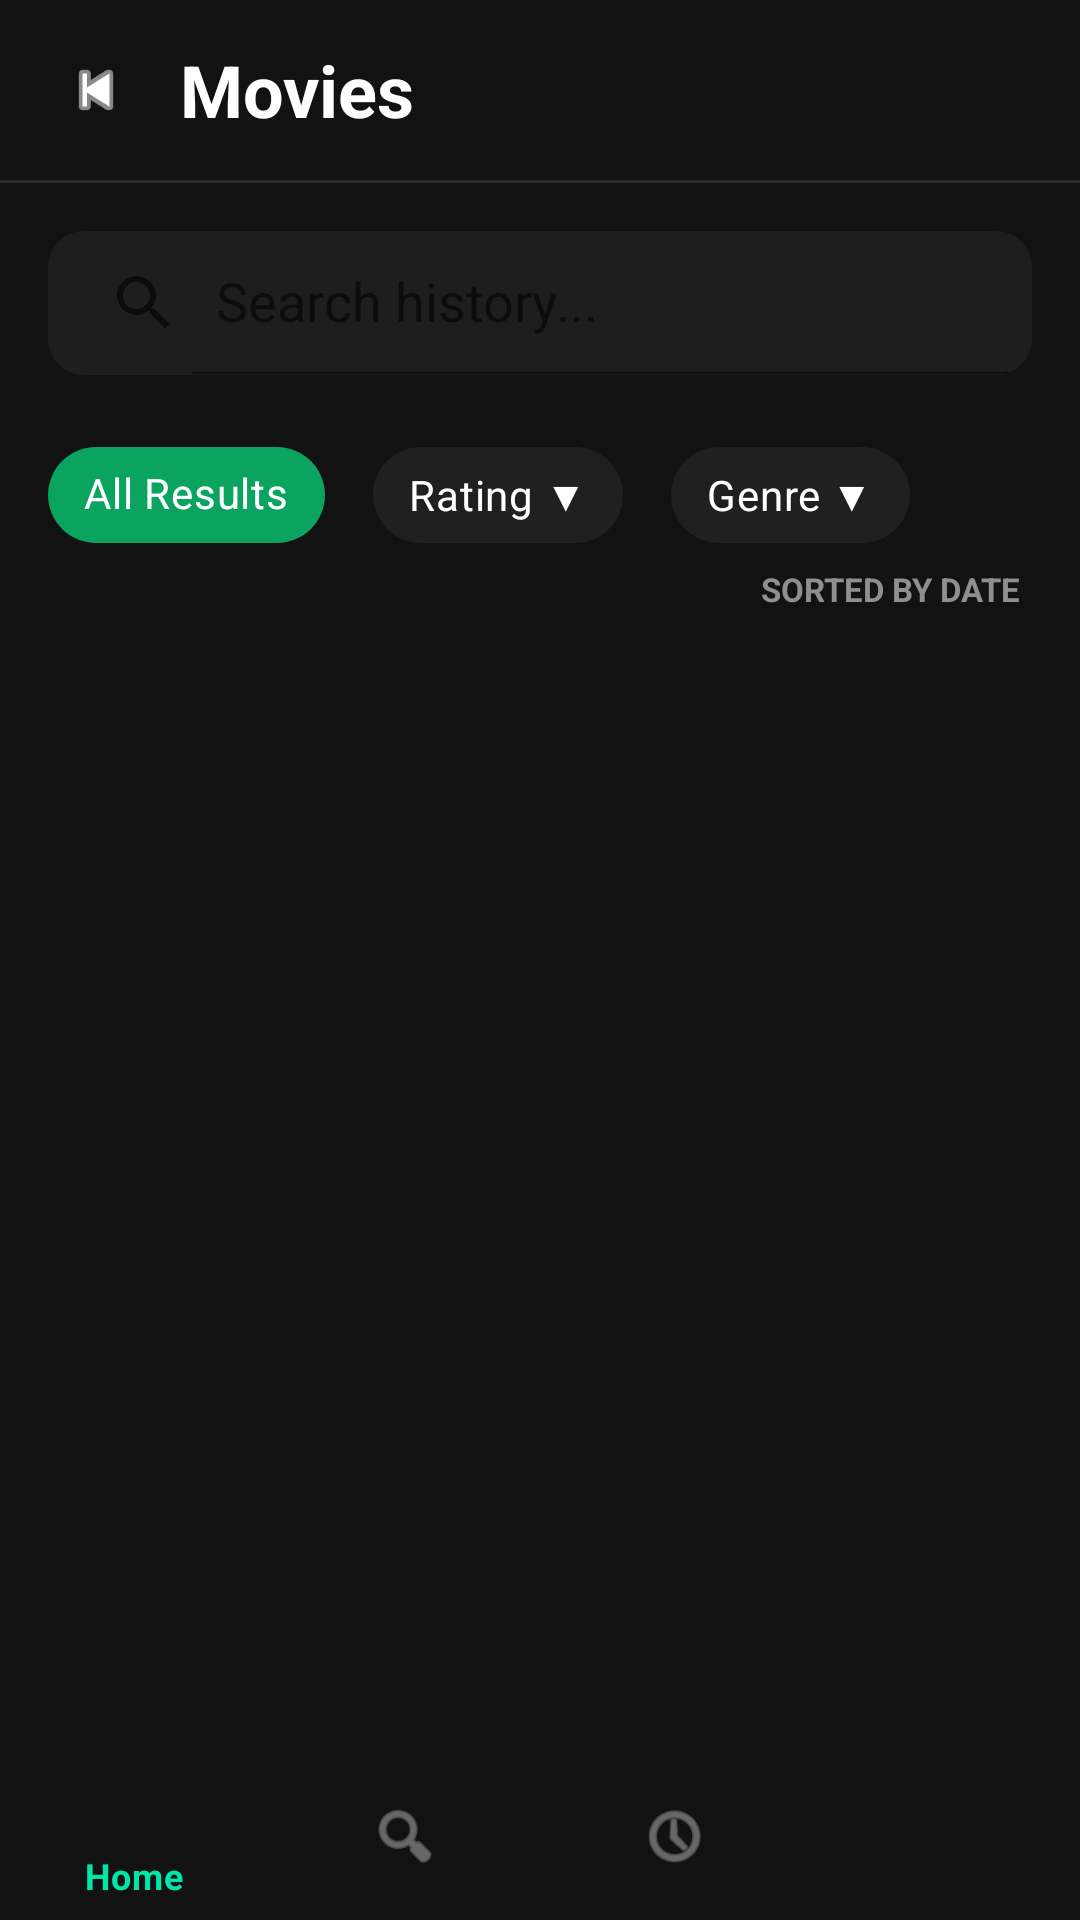

Locate icon controls on the screen. Image size 1080 x 1920, boxes as (left=x1, top=y1, right=x2, bottom=y2).
previous: (left=79, top=70, right=113, bottom=110)
